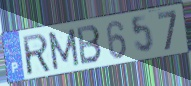5: (129, 13, 157, 58)
6: (105, 20, 128, 61)
7: (156, 8, 179, 53)
B: (76, 24, 104, 67)
M: (46, 26, 81, 72)
R: (20, 32, 52, 77)
